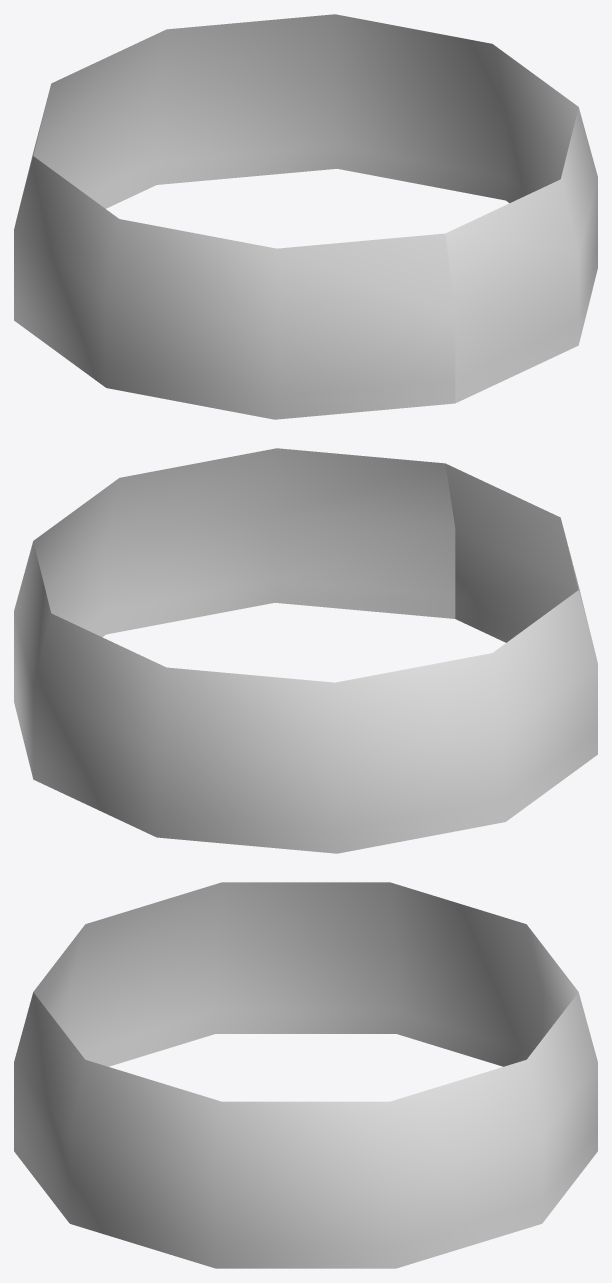
The model's file is fog.obj.
3 views of the same model, one above another, from view 1: azimuth 30°, elevation 25°; view 2: azimuth 150°, elevation 25°; view 3: azimuth 270°, elevation 25° (orthographic). The views are drawn at different scales.
Visible parts, largest first — view 1: fog; view 2: fog; view 3: fog.
Part boxes in pixels (<box>): fog: <box>14,14,597,419</box>; fog: <box>14,448,597,853</box>; fog: <box>14,882,597,1268</box>.
Bounding box in the file's own units: 6743 × 2134 × 7090.
